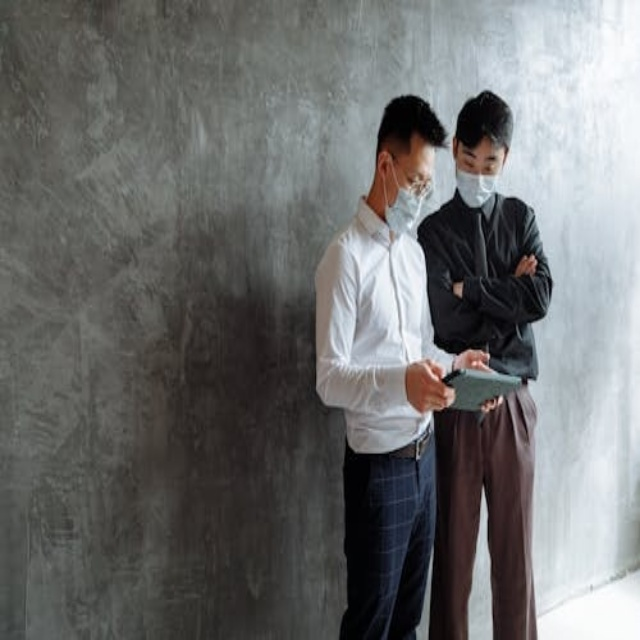Gafas: (391, 152, 435, 200)
Mascara: (383, 159, 430, 236), (455, 156, 499, 208)
Sin_gafas: (453, 150, 506, 175)
Sin_guantes: (458, 346, 512, 417), (404, 350, 456, 413), (513, 250, 543, 275)
